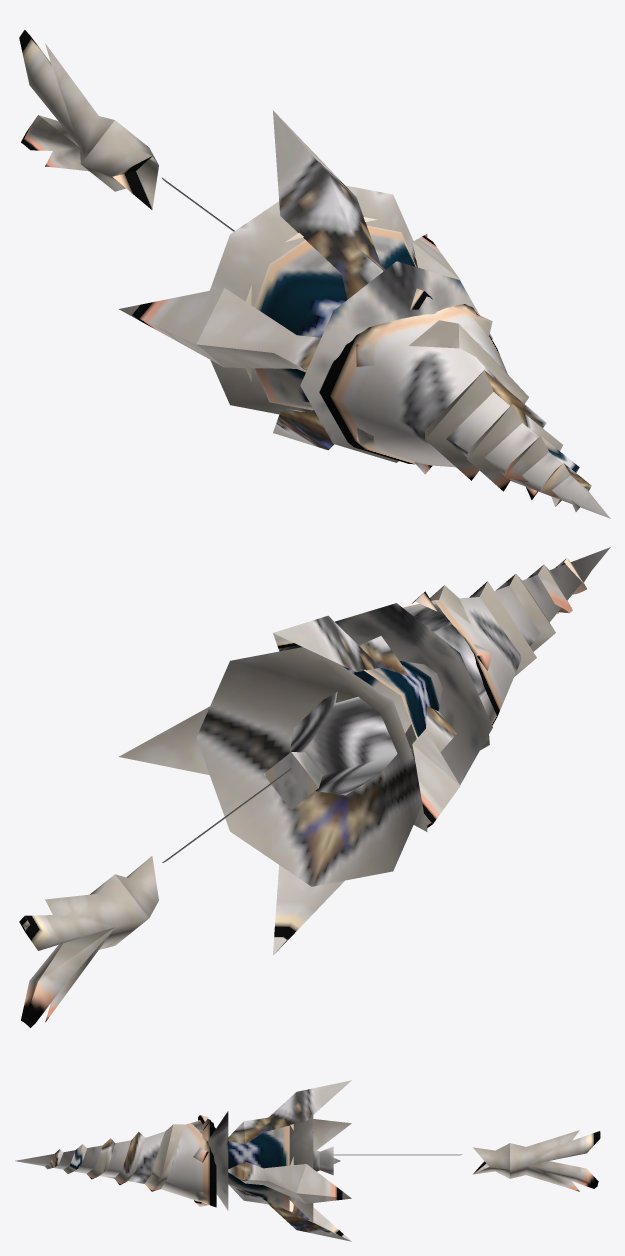
3 renders of one model, top to bottom at view 1: azimuth 30°, elevation 25°; view 2: azimuth 150°, elevation 25°; view 3: azimuth 270°, elevation 25°, orthographic. The views are drawn at different scales.
Visible parts, largest first — view 1: mLance; view 2: mLance; view 3: mLance.
Boxes of the visible parts, x1,y1,x2,y2 form: mLance: (19,29,610,518); mLance: (19,547,610,1027); mLance: (15,1080,600,1241).
Size of the model in its own units: 0.3405 by 0.3405 by 1.14.
